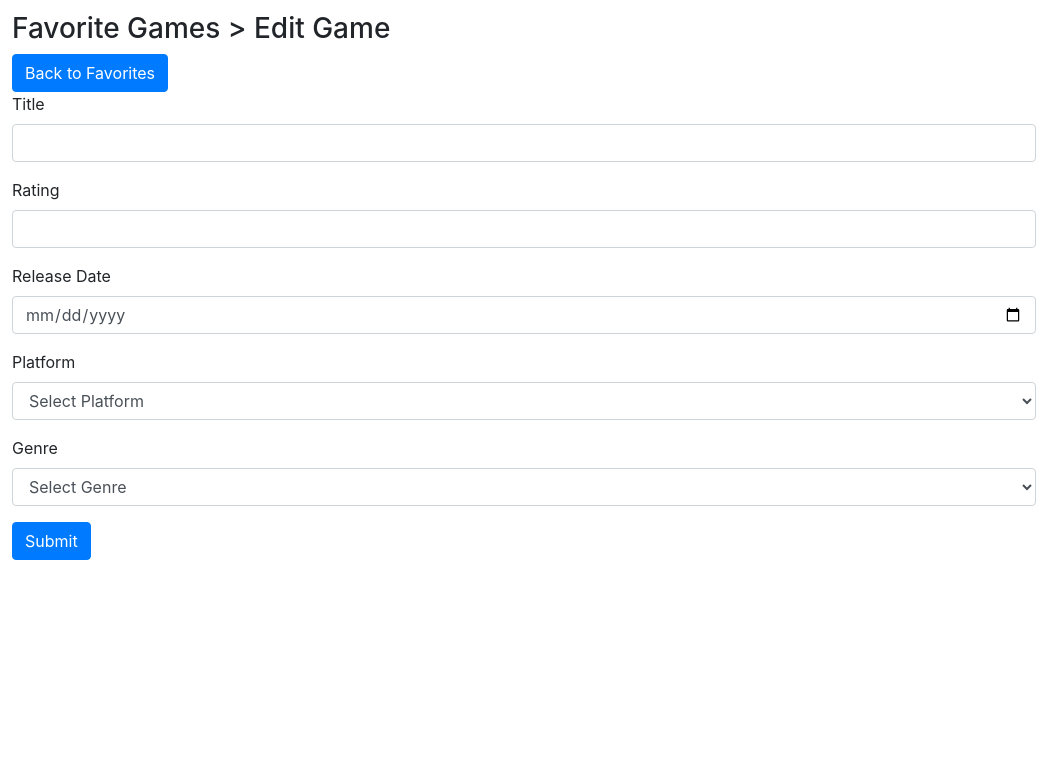
Scenario: Form handles invalid name value
Click the button with test id "submit-btn": click(51, 541) [12,522,91,560]
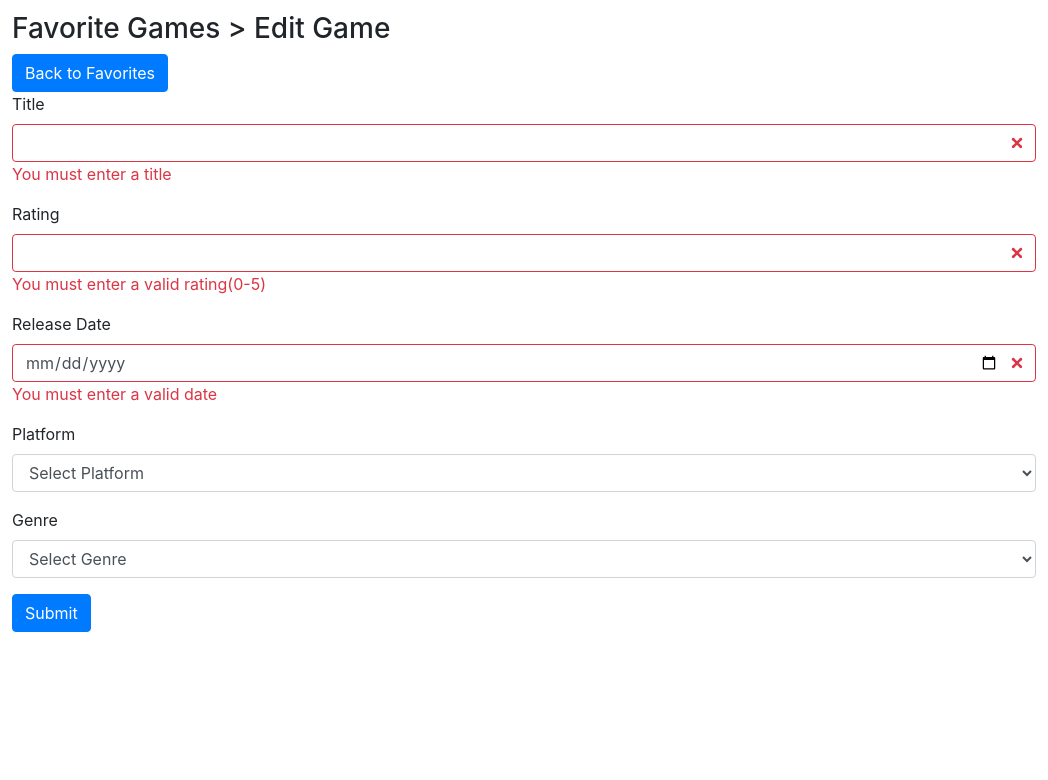
Now the text with test id "input-title-error" reads "You must enter a title", box [12,164,172,184]
